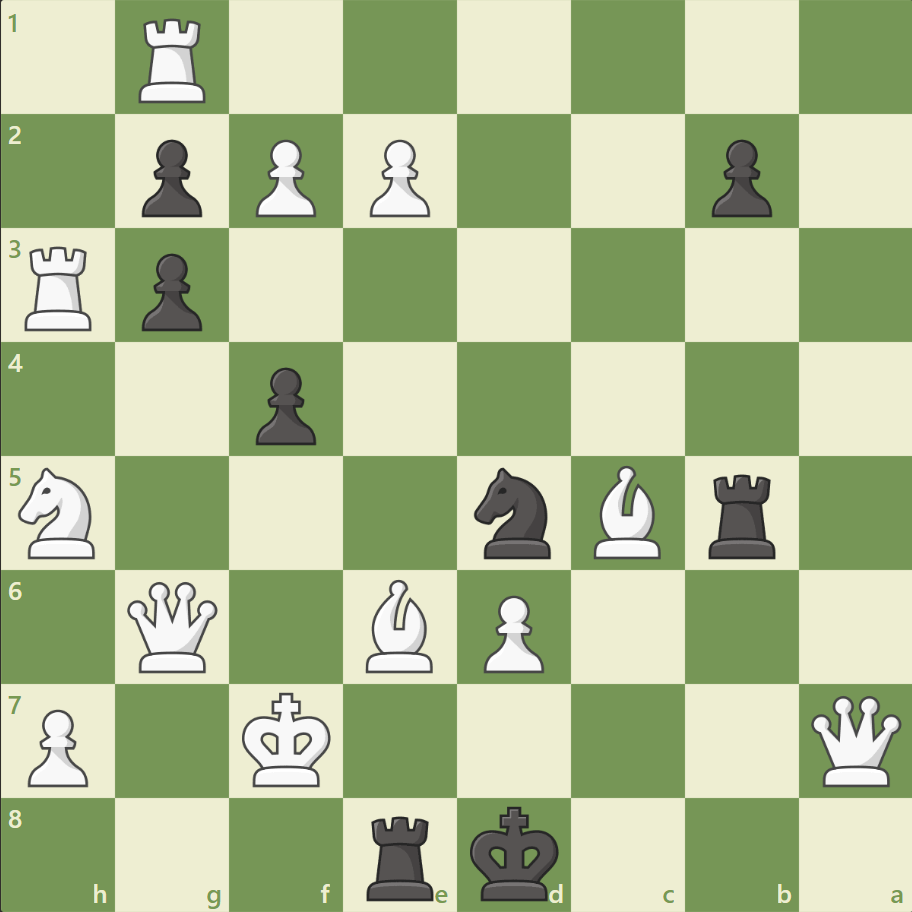B: (585, 460, 669, 563), (358, 574, 442, 676)
K: (238, 685, 338, 793)
N: (11, 461, 108, 564)
P: (20, 700, 95, 791), (474, 586, 549, 677), (247, 132, 322, 223), (361, 132, 435, 223)
Q: (124, 576, 223, 676), (805, 690, 904, 789)
R: (19, 239, 102, 336), (133, 12, 215, 109)
k: (465, 798, 565, 906)
n: (465, 461, 562, 564)
p: (247, 359, 322, 450), (133, 246, 208, 337), (701, 132, 776, 223), (133, 132, 208, 223)
r: (700, 466, 783, 563), (360, 806, 442, 904)
